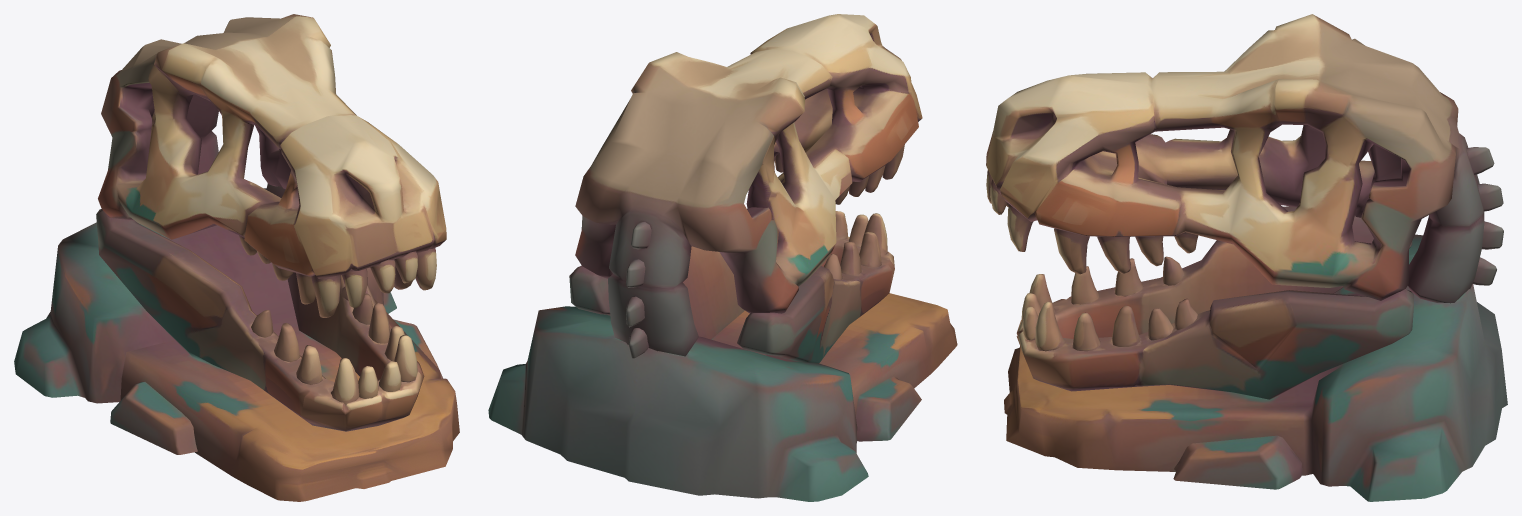
Rendered from raw.glb.
3 renders of one model, left to right at view 1: azimuth 30°, elevation 25°; view 2: azimuth 150°, elevation 25°; view 3: azimuth 270°, elevation 25°, orthographic. The views are drawn at different scales.
Visible parts, largest first — view 1: tripo_node_80d9ac76-d70a-498f-8587-8f3d8639a6ef; view 2: tripo_node_80d9ac76-d70a-498f-8587-8f3d8639a6ef; view 3: tripo_node_80d9ac76-d70a-498f-8587-8f3d8639a6ef.
Part boxes in pixels (left/top/right/bottom): tripo_node_80d9ac76-d70a-498f-8587-8f3d8639a6ef: left=14, top=14, right=459, bottom=501; tripo_node_80d9ac76-d70a-498f-8587-8f3d8639a6ef: left=488, top=14, right=957, bottom=501; tripo_node_80d9ac76-d70a-498f-8587-8f3d8639a6ef: left=986, top=14, right=1507, bottom=501.
Bounding box in the file's own units: 0.8296 × 0.769 × 0.9995.
Materials: 1 (1 with a texture image).
